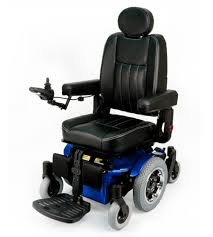wheelchair: (25, 2, 189, 228)
